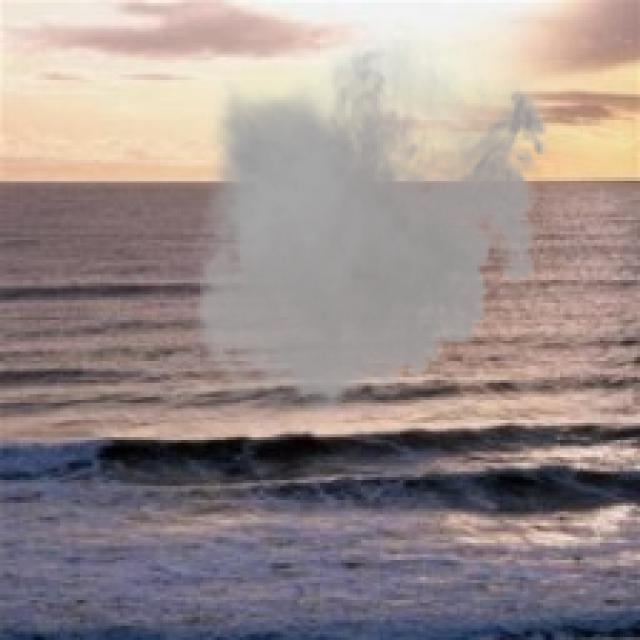Smoke: (183, 26, 560, 428)
